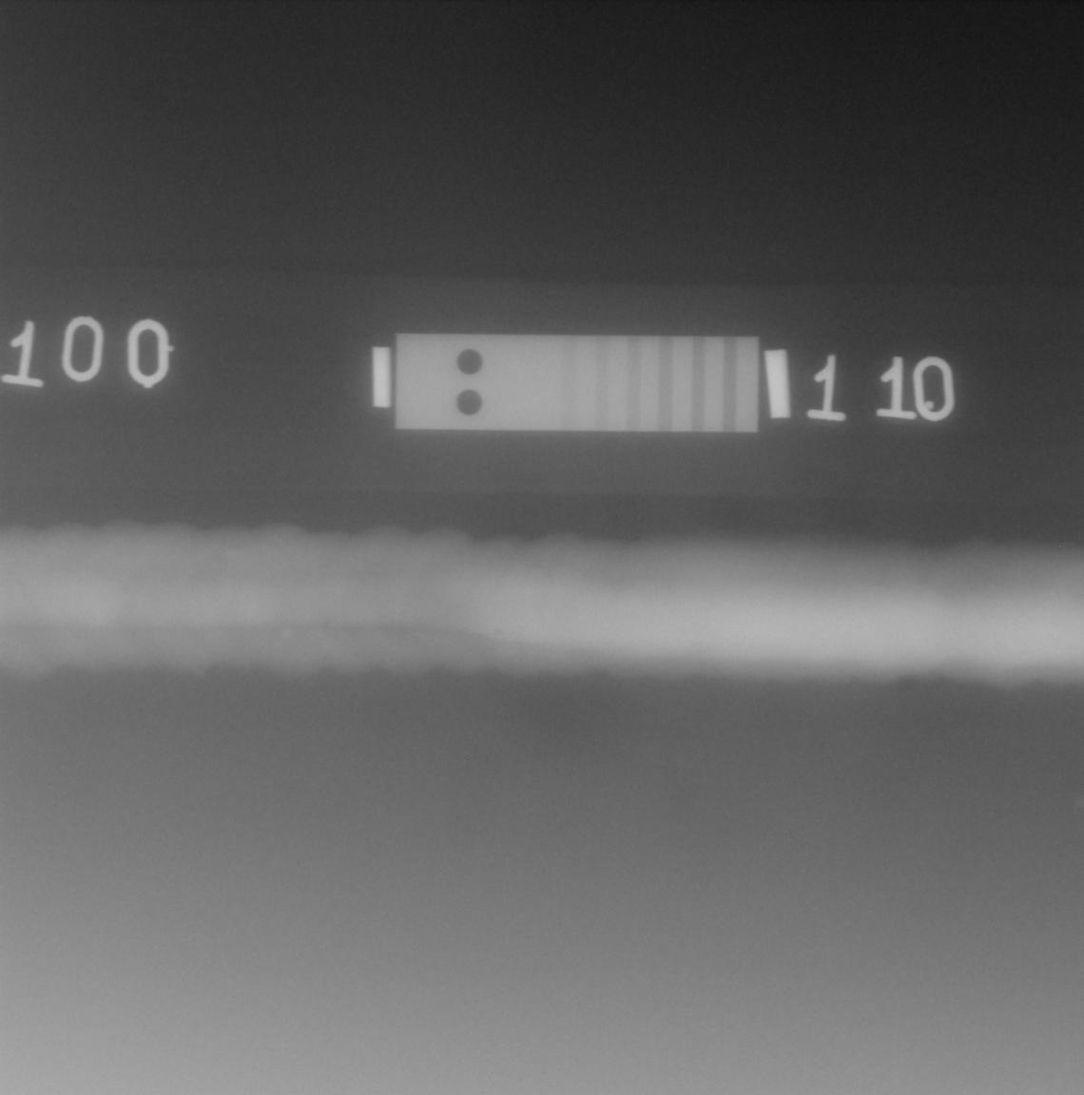Pore/Porosity: (493, 628, 504, 637)
Reference Standard 2: (395, 333, 758, 433)
